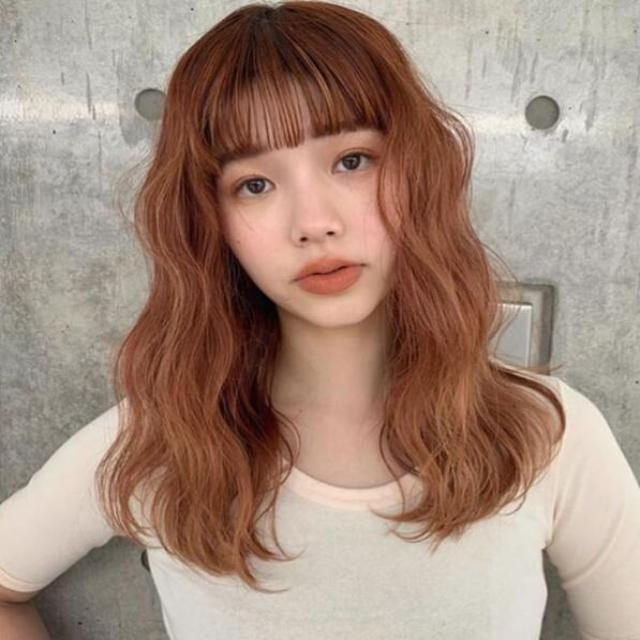Nonhelmet: (145, 20, 483, 362)
